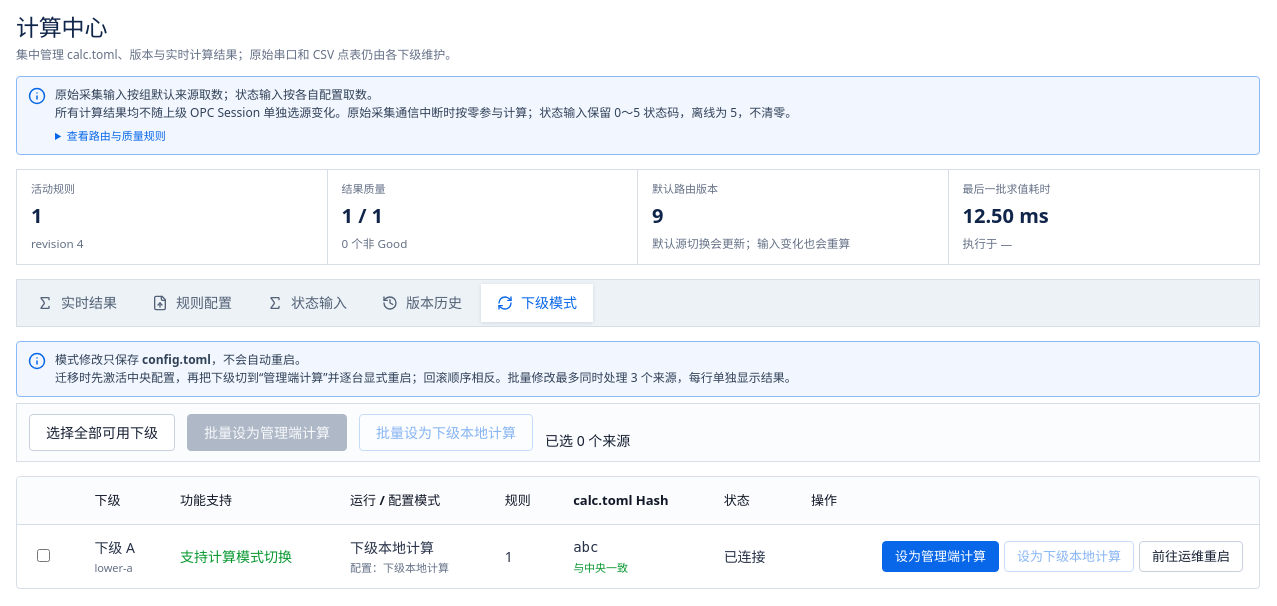
it: calculation center › replaces previous lower-mode success with pending and then the current failure
The width and height of the screenshot is (1277, 606).
Click the button "设为管理端计算".
click(940, 556)  # box [882,541,999,572]
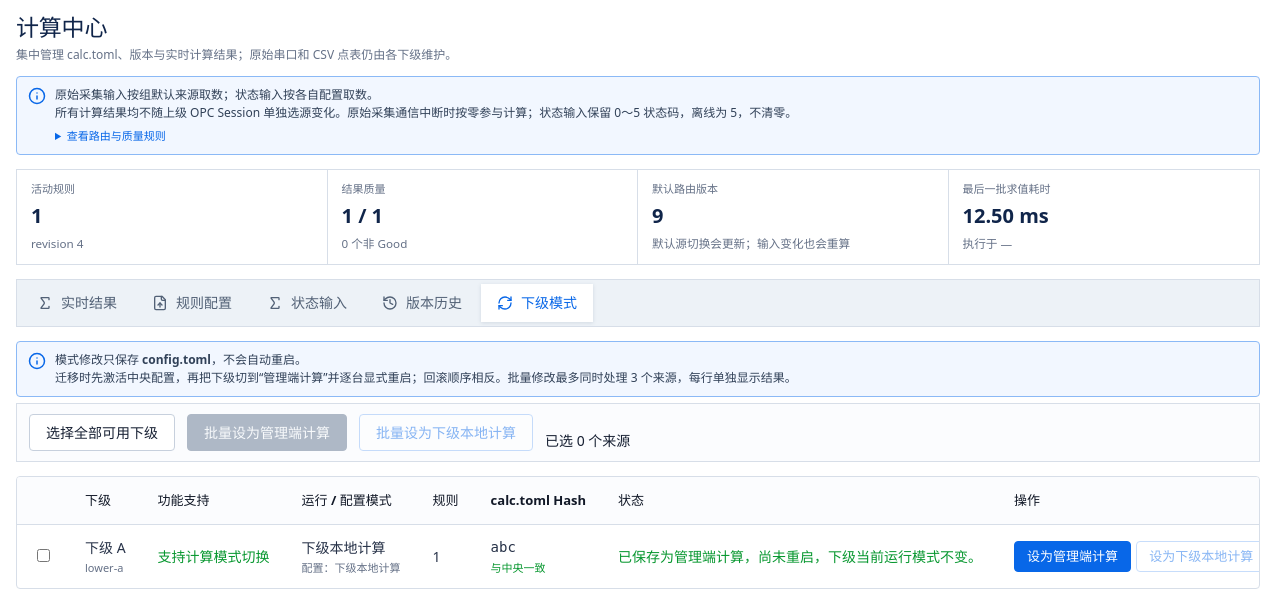
Check: the text "已保存为" is shown, box [618,547,982,566]
Click the button "设为管理端计算".
click(1073, 556)  # box [1014,541,1131,572]
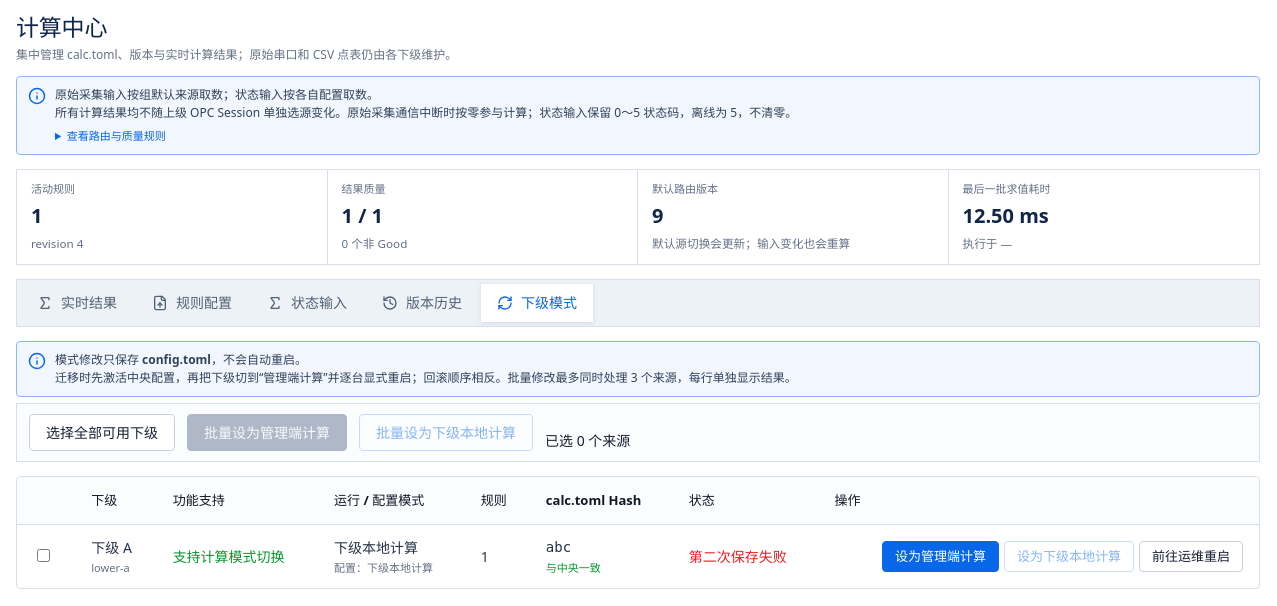
Check: the text "正在保存…" is shown, box [673,524,818,588]
Check: the text "第二次保存失败" is shown, box [689,547,787,566]
Check: the text "已保存为" is gone
